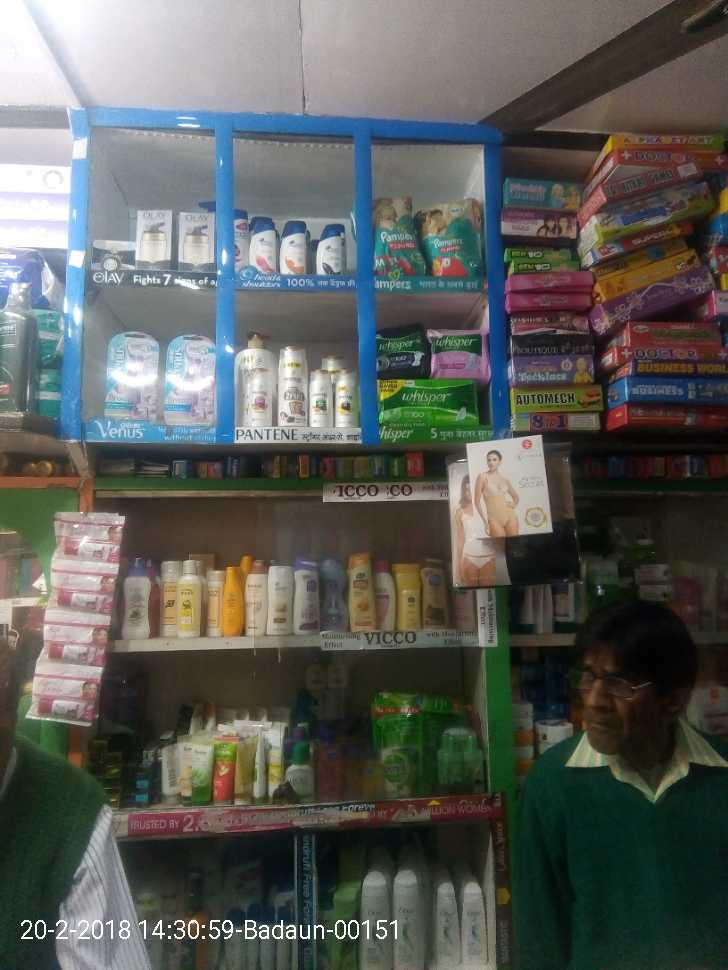venus: (162, 328, 215, 417), (110, 330, 156, 417)
